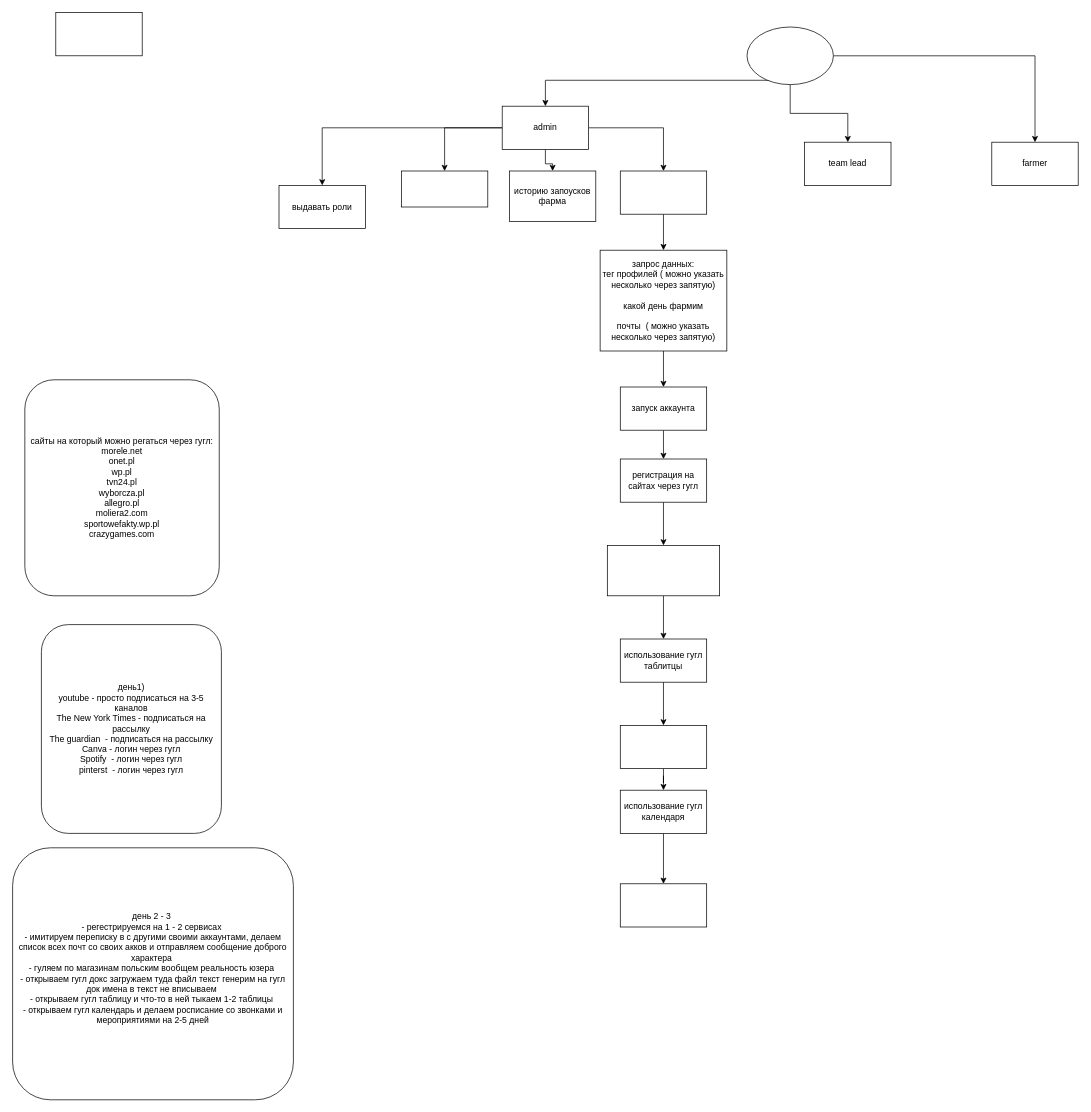
The diagram is 1091 pixels wide and 1112 high, and some of its shapes have lost their labels. Here are the shapes that lost their labels. From the top down, the box of each, then its label:
(746, 26, 833, 85): телеграм бот
(401, 170, 488, 207): смотреть ститистику всех юзеров
(620, 170, 707, 214): запускать фарм
(607, 545, 720, 596): проход по сайтам с куки ( не нужно регаться но принять плашку с куки)
(620, 725, 707, 769): использование гугл документа
(620, 883, 707, 927): отправить сообщение на почту следующего аккаунта
